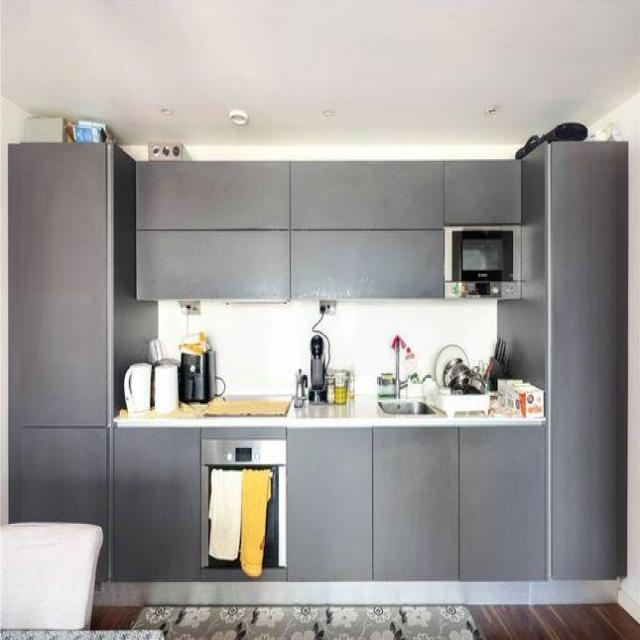Wall: (3, 1, 640, 143), (0, 94, 64, 524), (591, 92, 640, 620), (91, 604, 640, 640), (321, 300, 498, 394), (157, 300, 319, 396), (185, 147, 519, 161), (121, 144, 147, 161)
